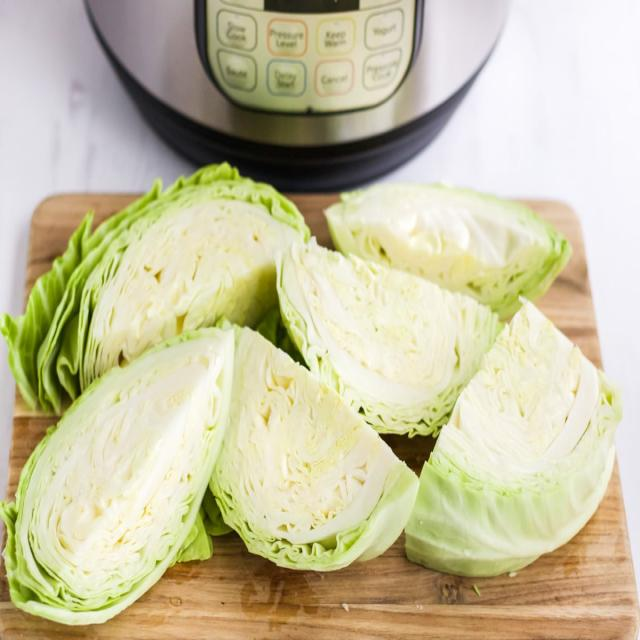haft-cabbage: (0, 158, 315, 412), (6, 324, 240, 626), (404, 294, 636, 585), (215, 316, 422, 582), (272, 232, 515, 442), (322, 174, 573, 321)
